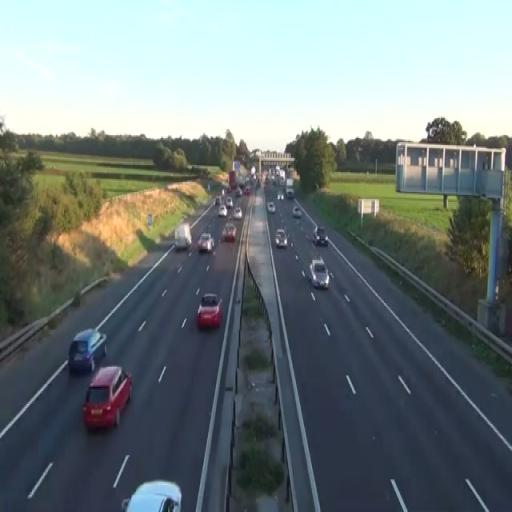Car: (82, 364, 133, 431), (122, 479, 182, 512), (68, 327, 107, 374), (197, 294, 223, 329), (310, 258, 330, 290), (198, 232, 215, 253), (313, 225, 328, 247), (222, 223, 237, 242), (276, 227, 288, 249), (292, 206, 302, 218)
Truck: (174, 223, 192, 251)
